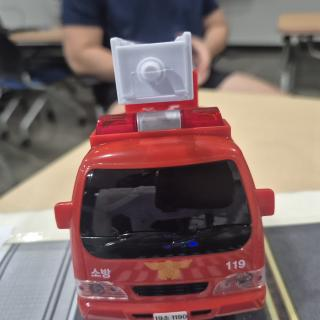Fire_truck: (54, 103, 274, 320)
